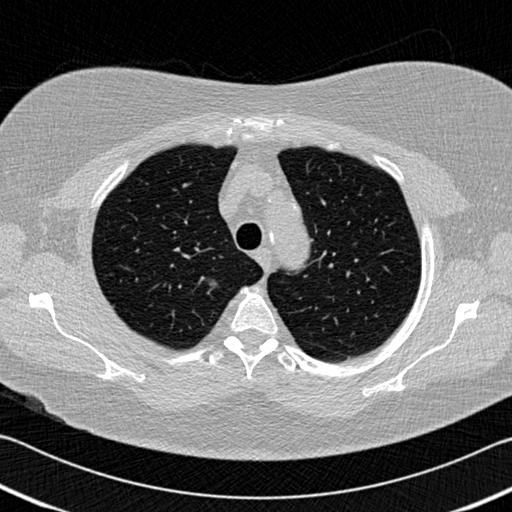nodule: (207, 276, 220, 289)
